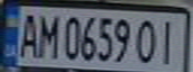0: (60, 12, 81, 61)
5: (96, 14, 115, 62)
6: (78, 12, 100, 62)
9: (112, 16, 136, 63)
A: (15, 9, 42, 58)
I: (154, 16, 184, 66)
M: (33, 11, 60, 60)
O: (133, 16, 160, 65)
